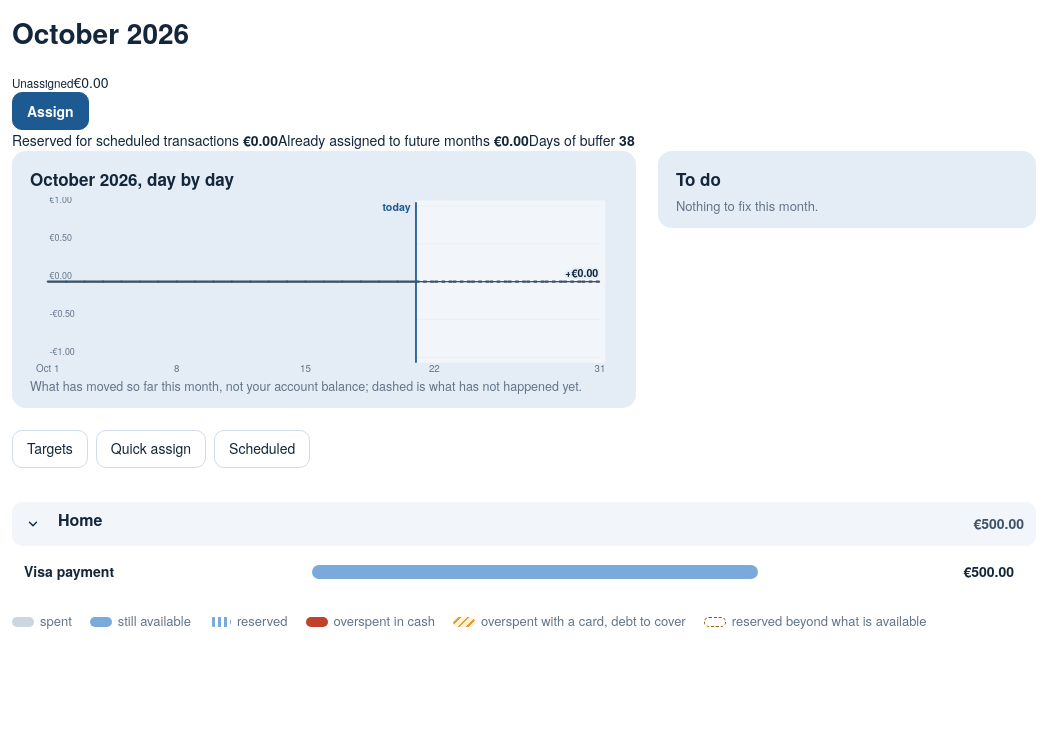
Test case: BudgetScreen (#53, #324) › opens a card's own payment category row into its own detail, fully covered (#329)
Check: the text "Visa payment" is shown, box [24, 561, 114, 581]
Click the button "Visa payment €500.00" at {"x": 524, "y": 572}, box [12, 546, 1036, 598]
(page scrolled)
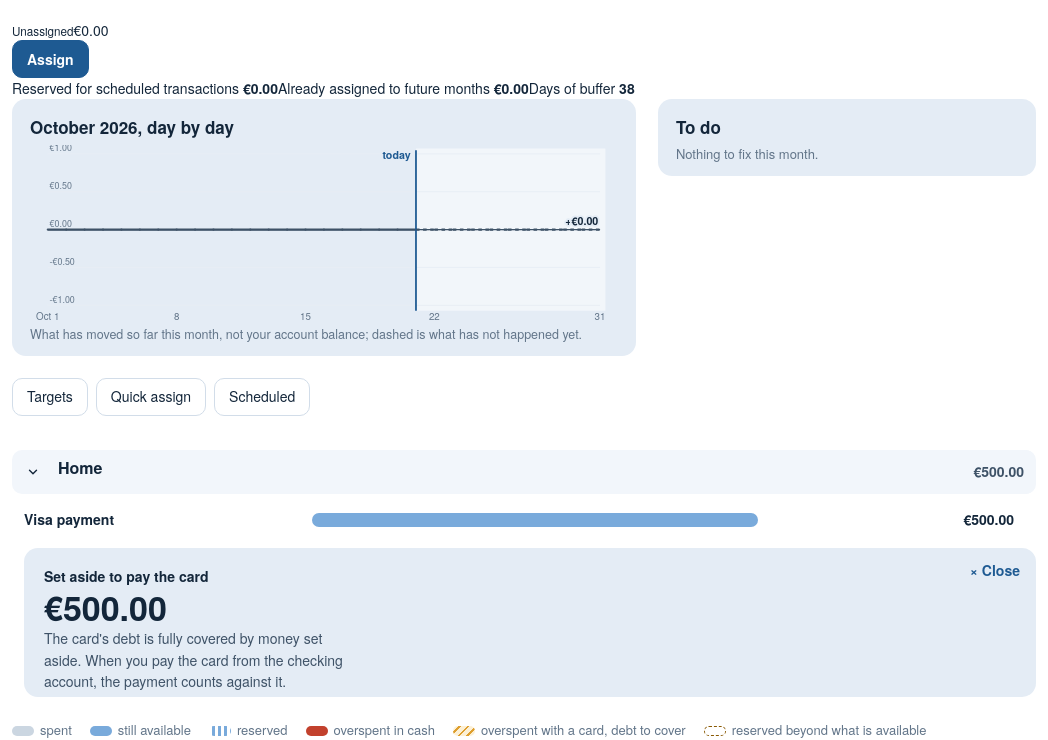
Check: the text "Set aside to pay the card" is shown, box [44, 566, 208, 586]
Check: the text "fully covered" is shown, box [44, 628, 343, 691]
